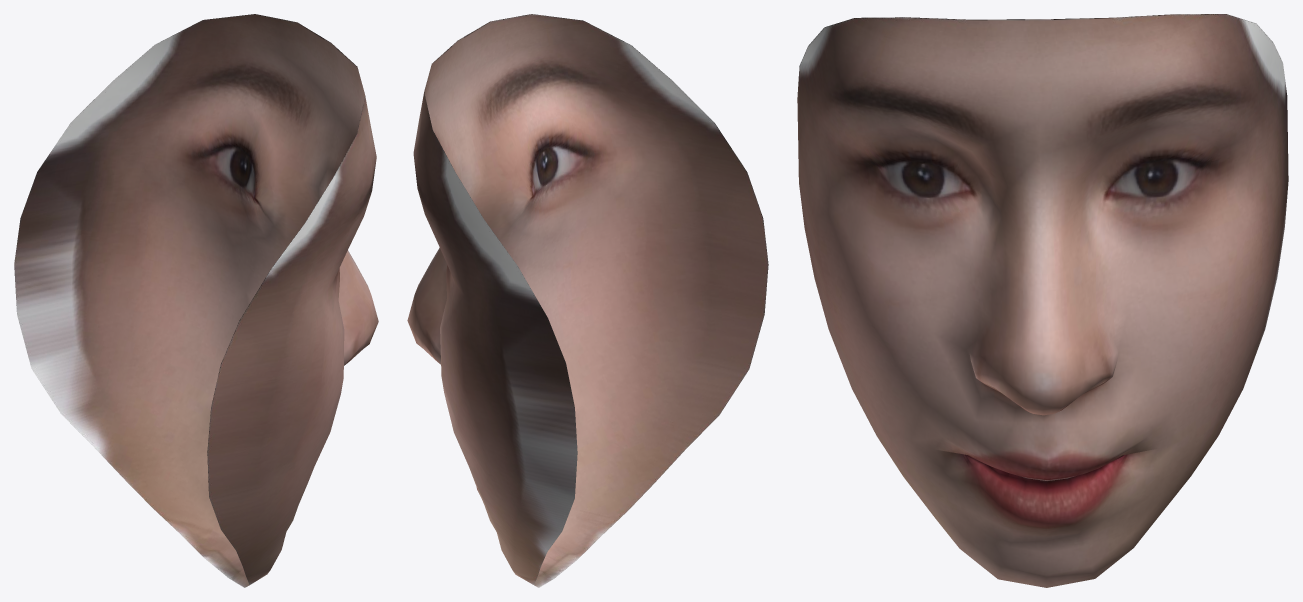
The model's file is bilibili_beauty.glb.
The picture shows the model from 3 angles, left to right: view 1: azimuth 30°, elevation 25°; view 2: azimuth 150°, elevation 25°; view 3: azimuth 270°, elevation 25°; orthographic projection. The views are drawn at different scales.
Visible parts, largest first — view 1: bilibili_beauty; view 2: bilibili_beauty; view 3: bilibili_beauty.
Part boxes in pixels (left/top/right/bottom): bilibili_beauty: left=14, top=14, right=378, bottom=587; bilibili_beauty: left=407, top=14, right=768, bottom=587; bilibili_beauty: left=797, top=14, right=1288, bottom=587.
Bounding box in the file's own units: 0.4498 × 0.8515 × 0.6065.
1 material, 1 textured.
